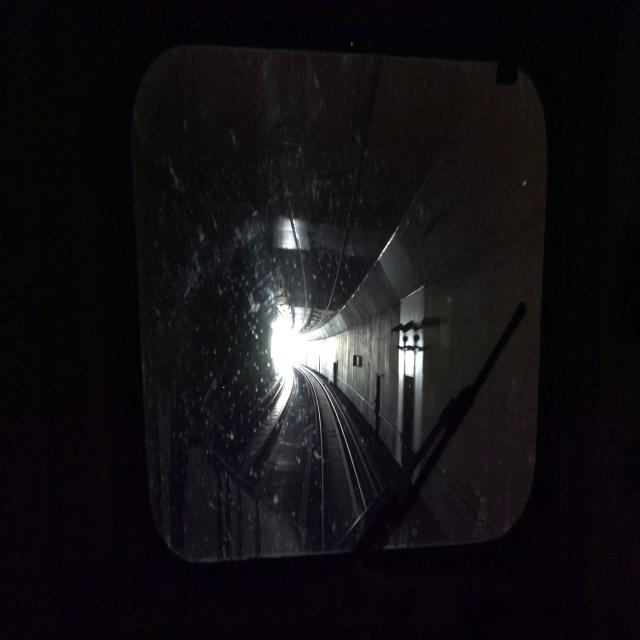rail-track: (312, 377, 362, 551), (225, 367, 291, 480), (343, 424, 372, 501)
